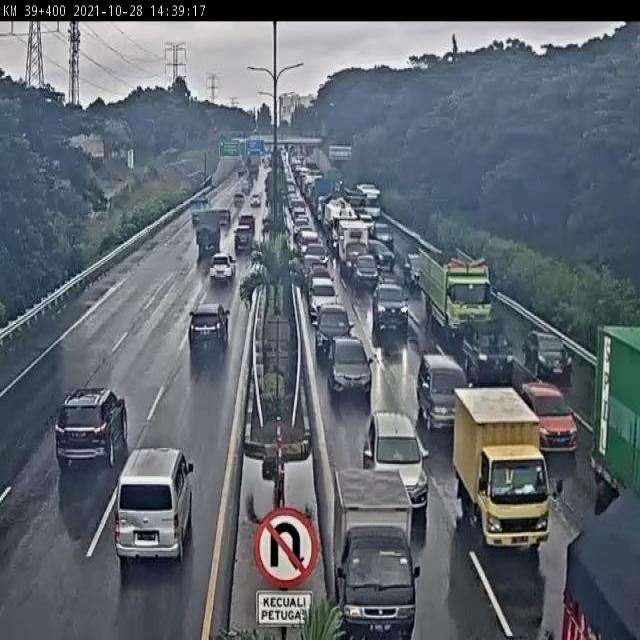Car: (358, 408, 435, 525), (55, 385, 129, 465), (418, 349, 477, 432), (519, 384, 581, 453), (460, 320, 517, 379), (327, 335, 372, 402), (524, 329, 576, 381), (186, 298, 230, 354), (312, 303, 354, 355), (371, 282, 411, 336), (208, 254, 238, 285), (232, 224, 255, 253)
Truck: (449, 390, 565, 560), (329, 469, 422, 640), (558, 472, 640, 639), (587, 324, 640, 526), (417, 244, 499, 342), (337, 218, 370, 280), (197, 212, 222, 259)
Van: (111, 446, 196, 568)
